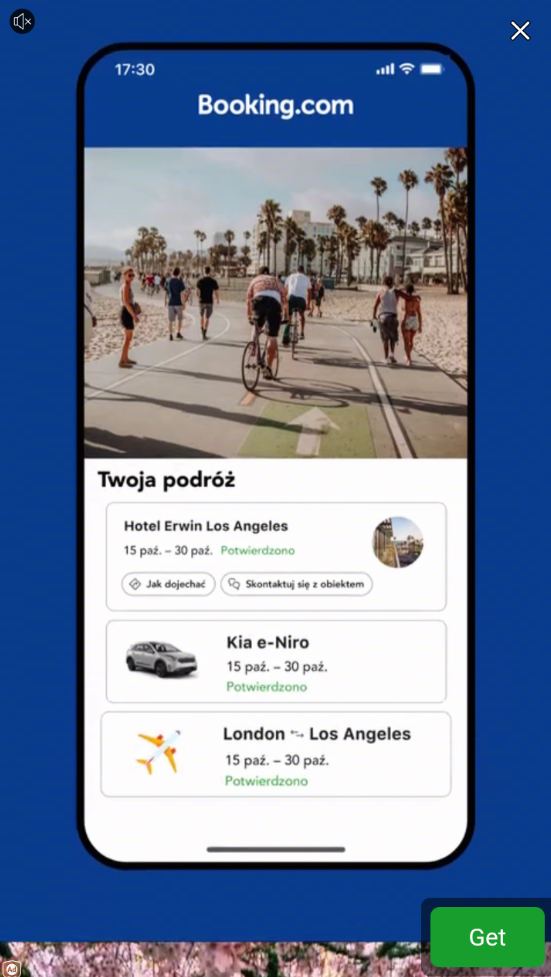close_button: (507, 16, 533, 46)
